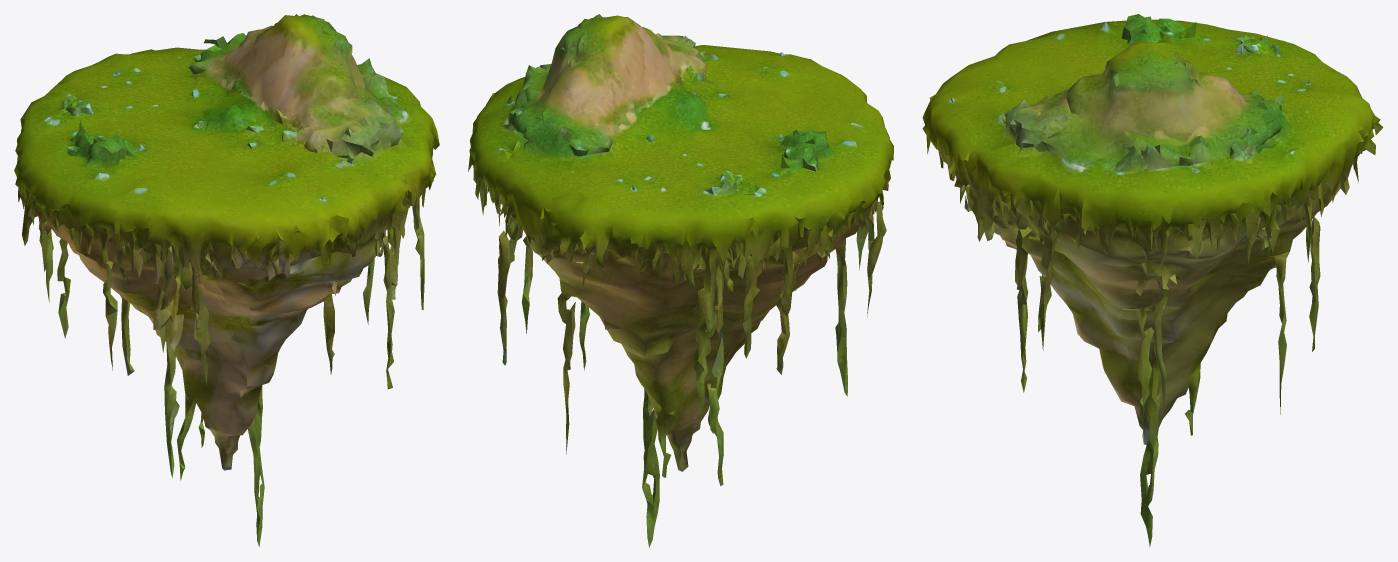
The model's file is isle-crag-hd.glb.
3 renders of one model, left to right at view 1: azimuth 30°, elevation 25°; view 2: azimuth 150°, elevation 25°; view 3: azimuth 270°, elevation 25°, orthographic.
Parts seen in each view (by area): view 1: isle-crag-hd.raw; view 2: isle-crag-hd.raw; view 3: isle-crag-hd.raw.
Boxes of the visible parts, <box> form: isle-crag-hd.raw: <box>14,14,439,546</box>; isle-crag-hd.raw: <box>468,14,893,547</box>; isle-crag-hd.raw: <box>922,14,1383,547</box>.
Bounding box in the file's own units: 7.64 × 9.95 × 7.98.
Materials: 1 (1 with a texture image).
